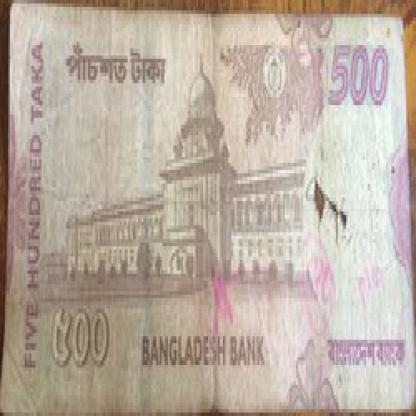500 taka: (50, 38, 183, 97), (48, 302, 126, 381)
